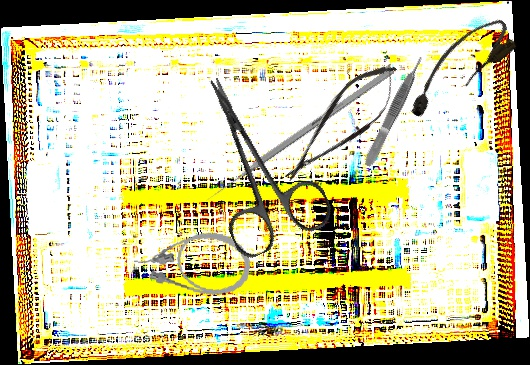Cannula: (394, 10, 522, 125), (130, 221, 255, 301)
Iris Scissors: (170, 56, 337, 263)
Micro Scissor: (270, 50, 413, 197)
Pusher: (203, 66, 395, 204)
Tissue Forceps: (361, 54, 428, 169)
